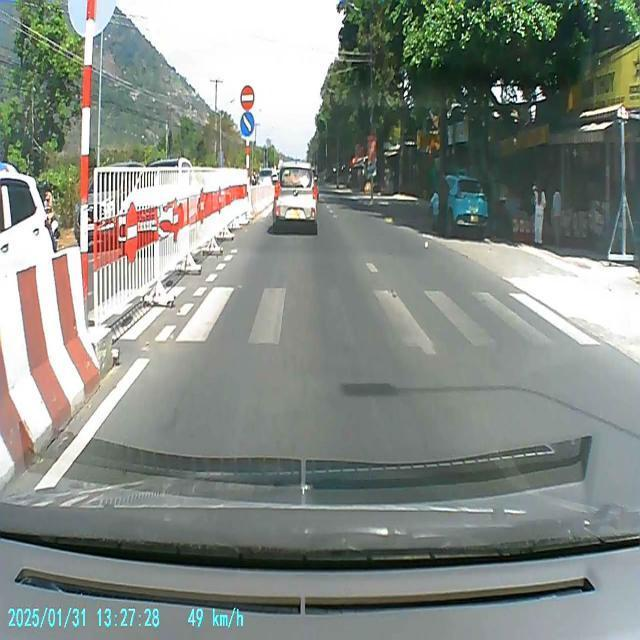102-cam-di-nguoc-chieu: (239, 84, 255, 110)
302a-huong-phai-di-vong-chuong-ngai-vat-1: (240, 112, 256, 136)
